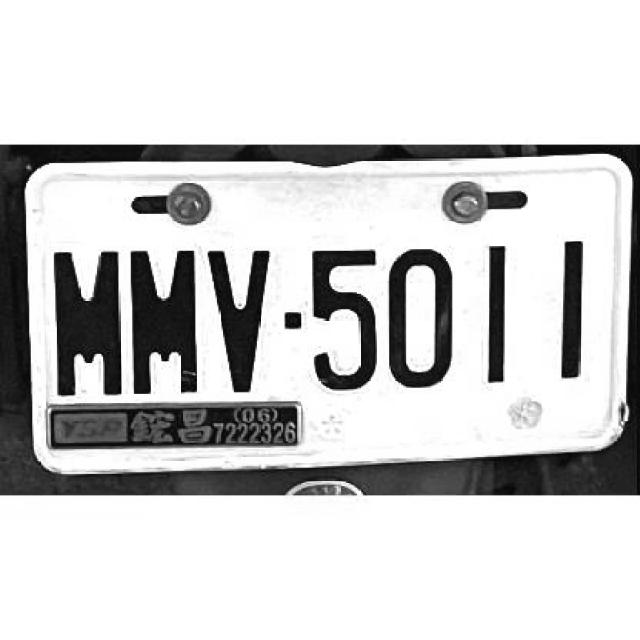-: (282, 312, 302, 332)
0: (386, 245, 457, 389)
1: (482, 246, 512, 379), (562, 234, 586, 378)
5: (308, 243, 380, 389)
M: (126, 245, 200, 397), (52, 246, 121, 392)
V: (208, 243, 277, 391)
